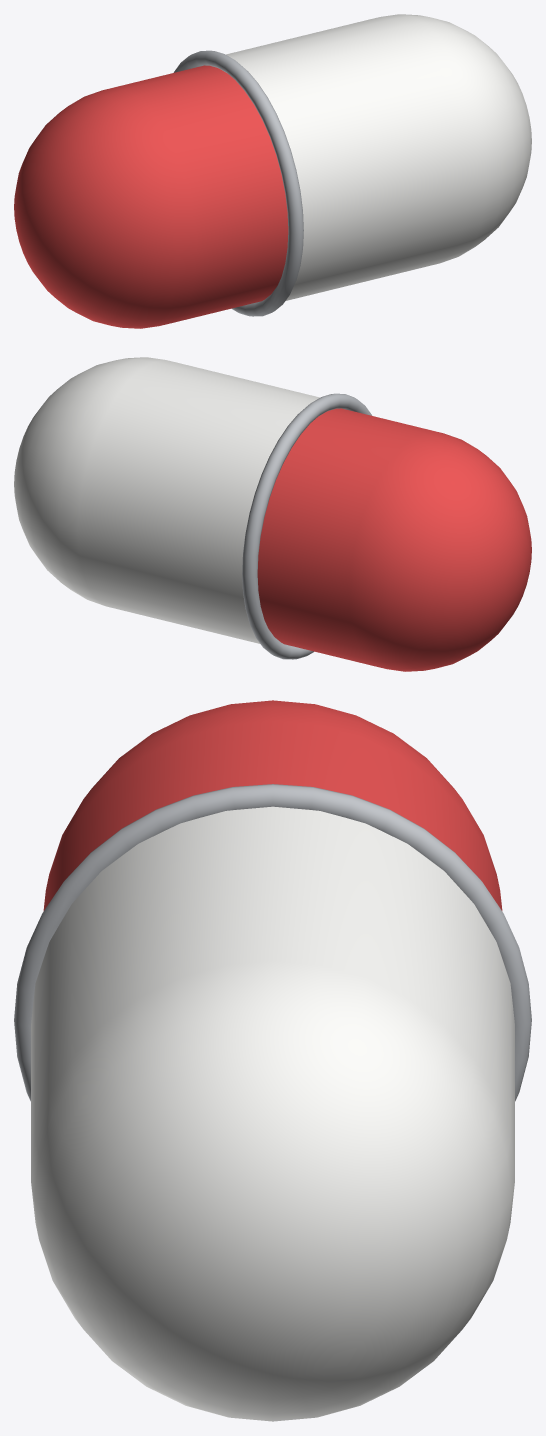
Rendered from vector.glb.
The picture shows the model from 3 angles, top to bottom: view 1: azimuth 30°, elevation 25°; view 2: azimuth 150°, elevation 25°; view 3: azimuth 270°, elevation 25°; orthographic projection. The views are drawn at different scales.
Visible parts, largest first — view 1: mitad_blanca, mitad_roja, junta; view 2: mitad_blanca, mitad_roja, junta; view 3: mitad_blanca, mitad_roja, junta.
Part boxes in pixels (x1,y1,x2,y2): mitad_blanca: (226,14,531,300); mitad_roja: (14,65,288,328); junta: (173,50,303,316); mitad_blanca: (14,357,319,643); mitad_roja: (257,408,531,671); junta: (242,393,372,659); mitad_blanca: (31,806,514,1421); mitad_roja: (43,700,502,910); junta: (14,784,531,1101).
Size of the model in its own units: 0.0505 by 0.0246 by 0.0246.
